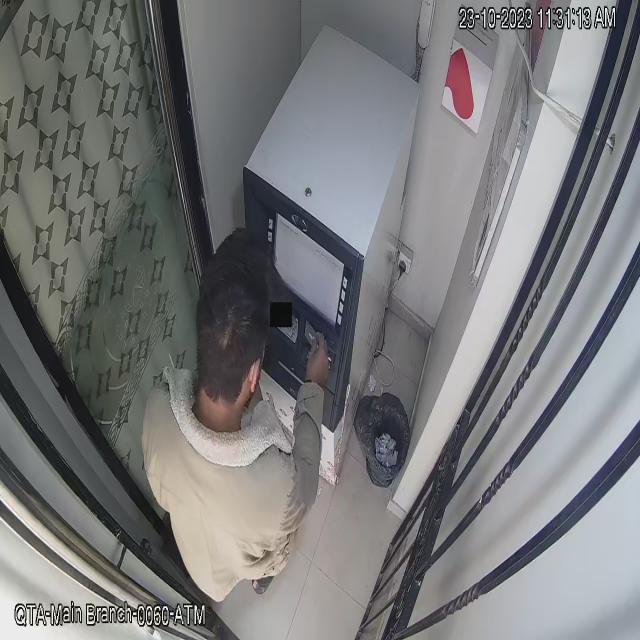atm-card: (302, 312, 319, 356)
